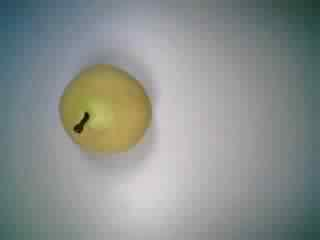pear: (53, 57, 160, 163)
